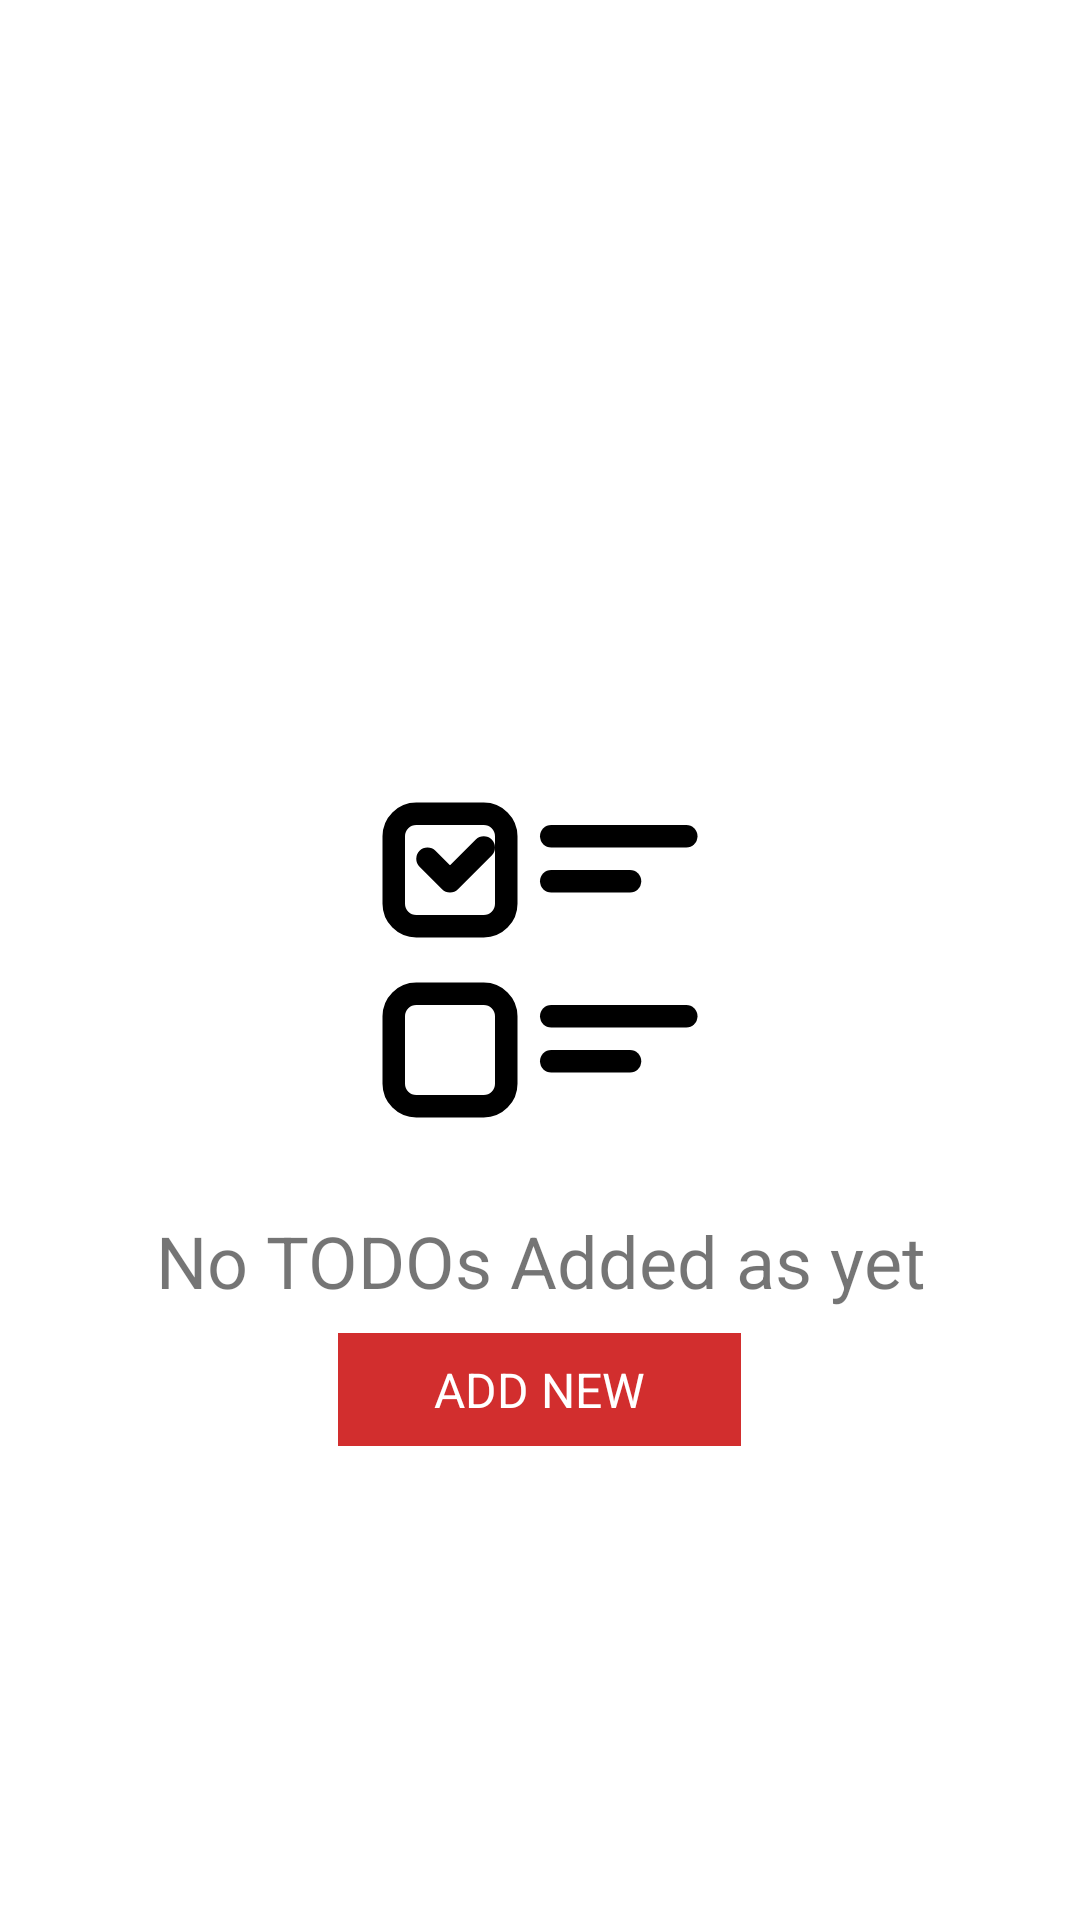

Icon bounding boxes for this 1080x1920 phone screenshot, format (x1, y1, x2, y2):
checkbox: (382, 802, 698, 1118)
